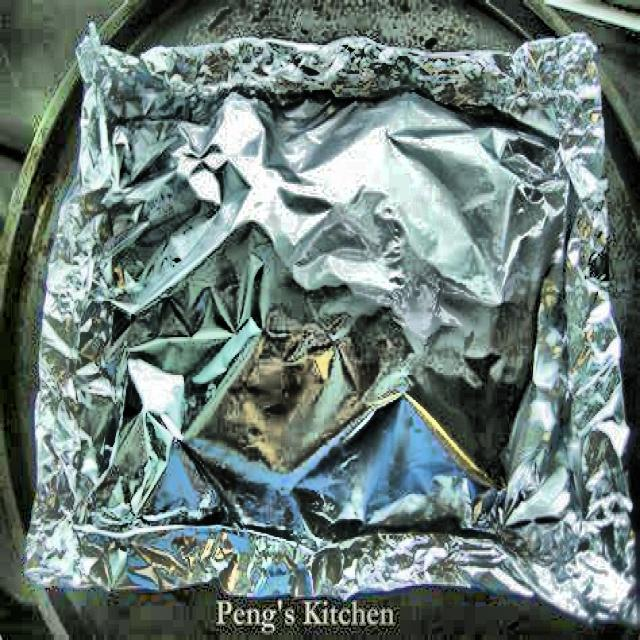Foil: (20, 19, 640, 635)
